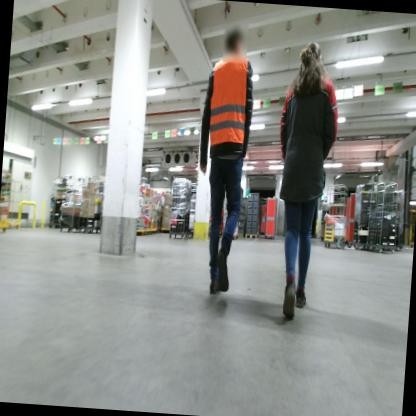pallet: (246, 232, 262, 241), (230, 235, 238, 241), (241, 231, 246, 239), (238, 231, 242, 239)
